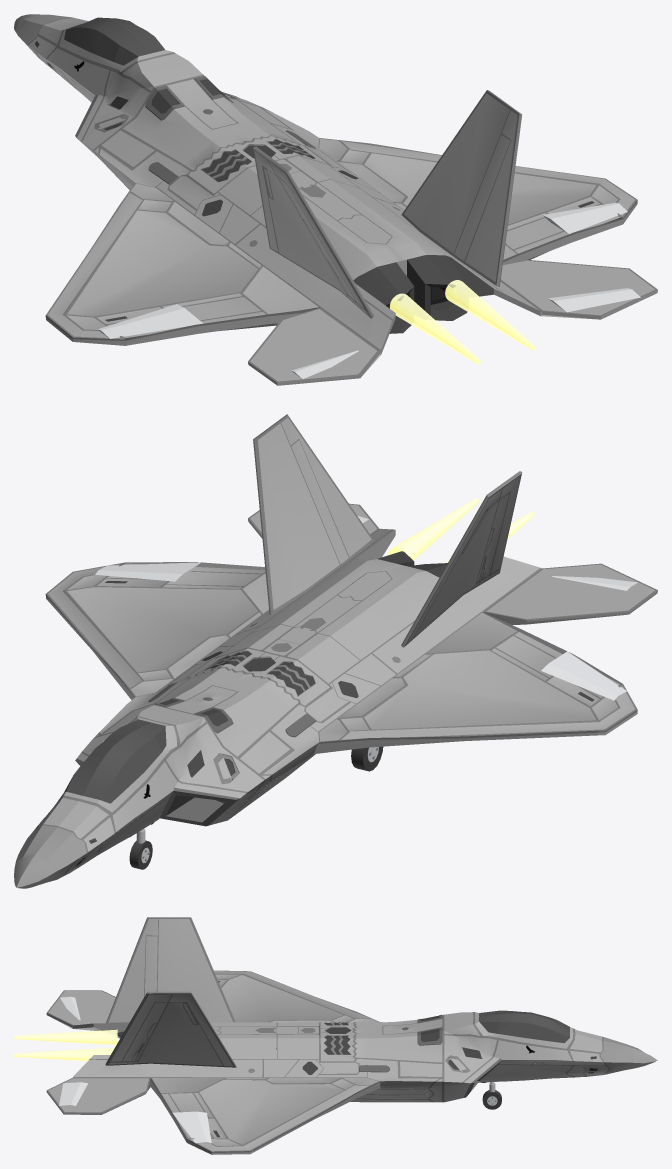
3 renders of one model, top to bottom at view 1: azimuth 30°, elevation 25°; view 2: azimuth 150°, elevation 25°; view 3: azimuth 270°, elevation 25°, orthographic. The views are drawn at different scales.
Visible parts, largest first — view 1: airframe, flame, aileronL, aileronR, elevatorR, elevatorL; view 2: airframe, aileronL, flame, aileronR; view 3: airframe, flame, aileronR, elevatorR, x_bayR.
Part boxes in pixels (x1,y1,x2,y2): airframe: (14,14,657,385); flame: (389,280,535,364); aileronL: (97,304,202,338); aileronR: (543,202,627,233); elevatorR: (548,288,640,312); elevatorL: (291,350,358,378); airframe: (14,414,657,888); aileronL: (541,651,626,700); flame: (388,498,534,562); aileronR: (95,562,200,581); airframe: (46,917,657,1154); flame: (14,1029,117,1061); aileronR: (172,1111,211,1143); elevatorR: (59,1082,87,1105); x_bayR: (350,1094,441,1102).
Size of the model in its own units: 13.28 by 5.25 by 19.92.
